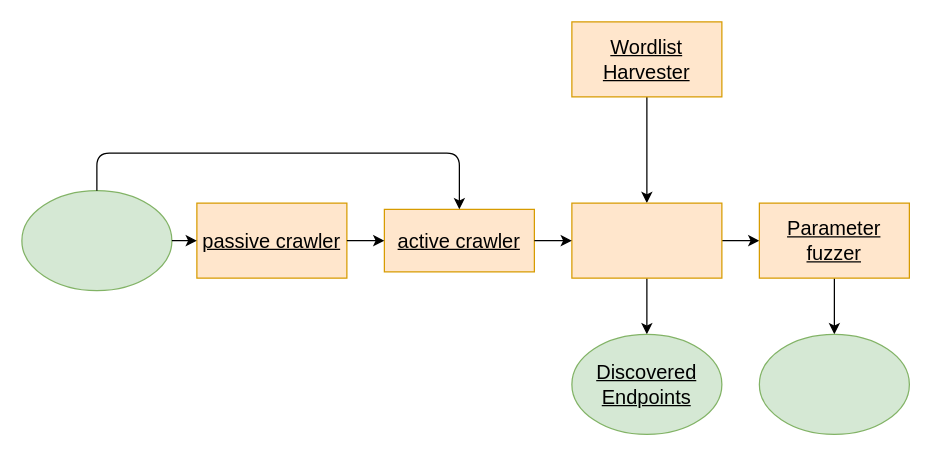
Image size: 931x456. Some labels were removed from this diagram. The shapes that lost their labels are listed below. From the top down, each one's centre as x and y in pixels, then its label:
At (x=96, y=240): "URL seed juice-shop.com".
At (x=646, y=240): "active fuzzer".
At (x=833, y=383): "Discovered Endpoints with parameters".
